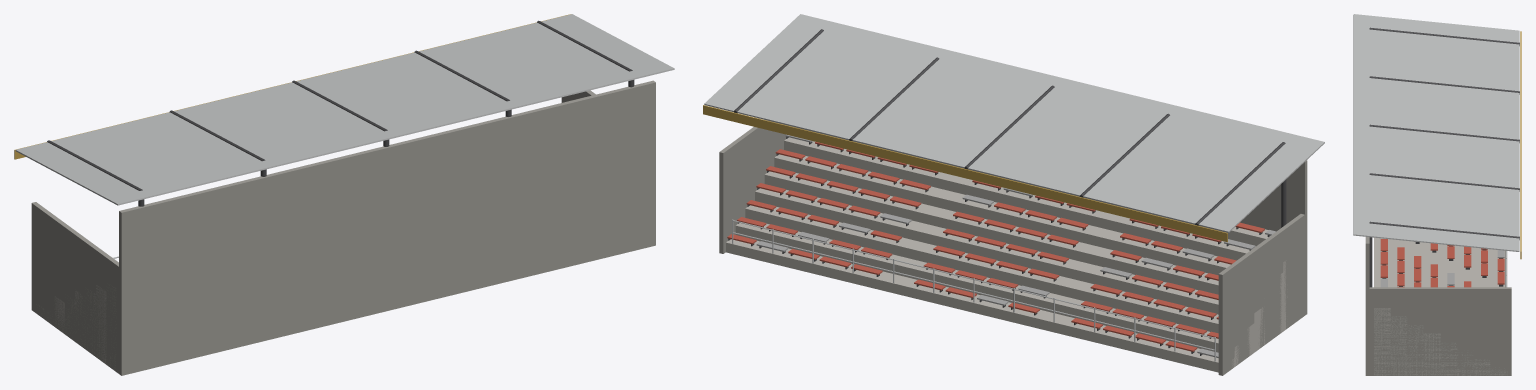
Rendered from stand.glb.
The picture shows the model from 3 angles, left to right: view 1: azimuth 30°, elevation 25°; view 2: azimuth 150°, elevation 25°; view 3: azimuth 270°, elevation 25°; orthographic projection. The views are drawn at different scales.
Parts seen in each view (by area): view 1: Part; view 2: Part; view 3: Part.
Boxes of the visible parts, left/top/right/bottom form: Part: left=14, top=14, right=674, bottom=375; Part: left=703, top=14, right=1324, bottom=375; Part: left=1353, top=14, right=1521, bottom=375.
Bounding box in the file's own units: 25 × 7.72 × 8.05.
